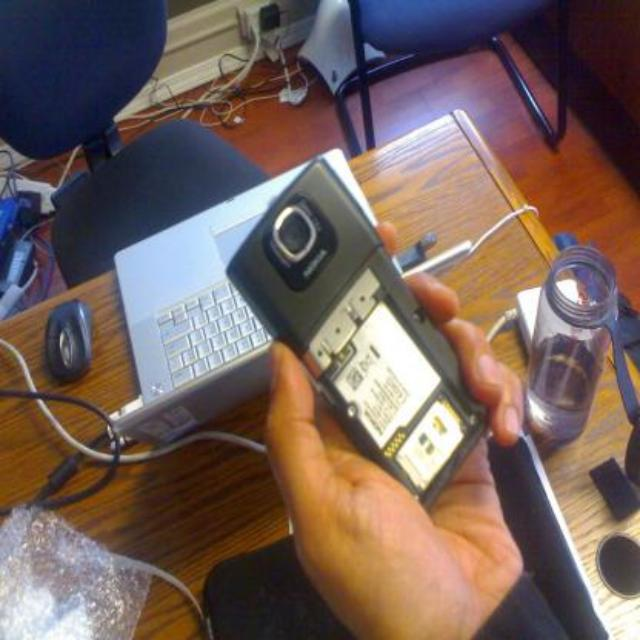Smartphone: (214, 164, 512, 490)
